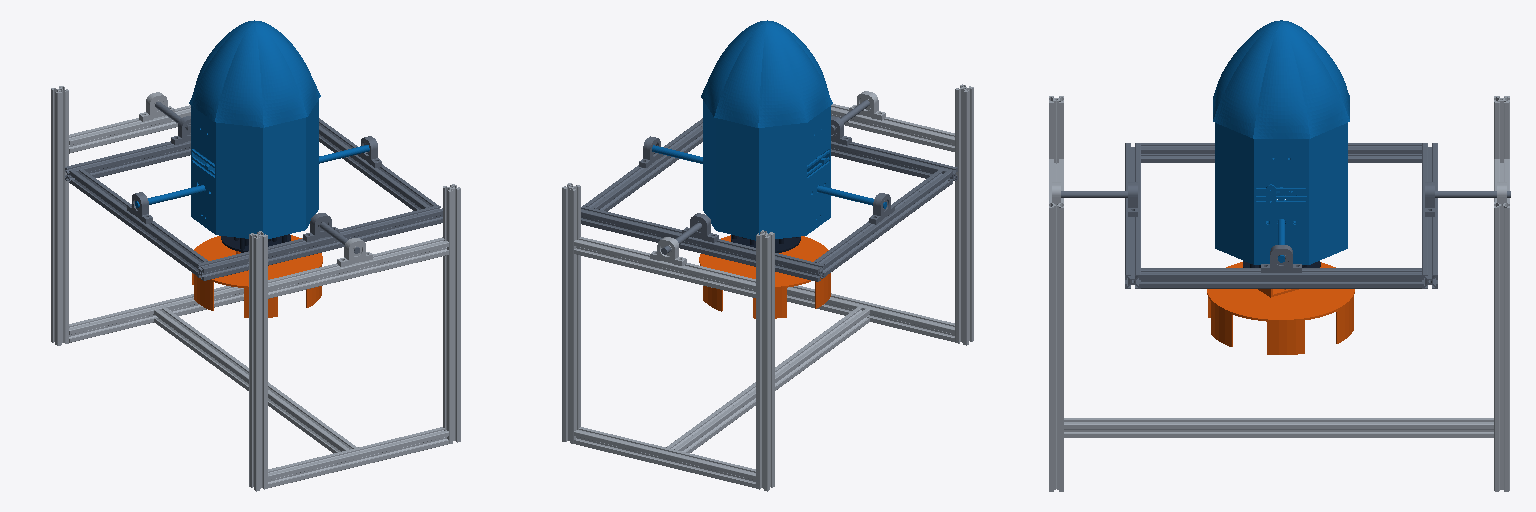
robot.urdf — tvc_bearing_bench:
<?xml version='1.0' encoding='utf-8'?>
<robot name="tvc_bearing_bench">
  <!--SI units. Two passive bearing axes, two finite-range TVC axes. Hardware masses and servo torque not calibrated.-->
  <mujoco>
    <compiler discardvisual="false" fusestatic="false" balanceinertia="false" />
  </mujoco>
  <link name="base">
    <inertial>
      <origin xyz="-1.41659713998e-10 -0.00300287933285 0.156765780651" rpy="0 0 0" />
      <mass value="1.6696801447" />
      <inertia ixx="0.152311867701" ixy="-8.02842029896e-13" ixz="4.22620004089e-11" iyy="0.0564248977728" iyz="8.48817070433e-07" izz="0.145145543224" />
    </inertial>
    <visual>
      <origin xyz="0 0 0" rpy="0 0 0" />
      <geometry>
        <mesh filename="../meshes/base.stl" scale="1 1 1" />
      </geometry>
      <material name="base_material">
        <color rgba="0.65 0.68 0.72 1" />
      </material>
    </visual>
  </link>
  <link name="outer_frame">
    <inertial>
      <origin xyz="0.00386403091391 -7.8383946077e-17 -0.0278301055879" rpy="0 0 0" />
      <mass value="0.807785395378" />
      <inertia ixx="0.020257956207" ixy="7.67411850212e-19" ixz="-0.00255463536002" iyy="0.018898675936" iyz="-8.2670415652e-18" izz="0.0383026412023" />
    </inertial>
    <visual>
      <origin xyz="0 0 0" rpy="0 0 0" />
      <geometry>
        <mesh filename="../meshes/outer_frame.stl" scale="1 1 1" />
      </geometry>
      <material name="outer_frame_material">
        <color rgba="0.42 0.46 0.52 1" />
      </material>
    </visual>
  </link>
  <link name="rocket_body">
    <inertial>
      <origin xyz="-0.0104871401813 -0.00638919275608 0.0585188775443" rpy="0 0 0" />
      <mass value="0.874809848988" />
      <inertia ixx="0.00759079266883" ixy="-7.84079442227e-05" ixz="0.000310782309314" iyy="0.00826048937692" iyz="0.000412357656431" izz="0.0049008019324" />
    </inertial>
    <visual>
      <origin xyz="0 0 0" rpy="0 0 0" />
      <geometry>
        <mesh filename="../meshes/rocket_body.stl" scale="1 1 1" />
      </geometry>
      <material name="rocket_body_material">
        <color rgba="0.08 0.43 0.68 1" />
      </material>
    </visual>
  </link>
  <link name="azimuth_stage">
    <inertial>
      <origin xyz="0.0021103656296 0.00178911567246 -0.0154319959363" rpy="0 0 0" />
      <mass value="0.0743663385504" />
      <inertia ixx="5.49237290143e-05" ixy="1.22086549064e-06" ixz="-4.23202359638e-06" iyy="5.40950435089e-05" iyz="-3.29406838973e-06" izz="8.47913835046e-05" />
    </inertial>
    <visual>
      <origin xyz="0 0 0" rpy="0 0 0" />
      <geometry>
        <mesh filename="../meshes/azimuth_stage.stl" scale="1 1 1" />
      </geometry>
      <material name="azimuth_stage_material">
        <color rgba="0.12 0.16 0.22 1" />
      </material>
    </visual>
  </link>
  <link name="thrust_unit">
    <inertial>
      <origin xyz="0.00607160176914 0.003156269223 -0.0284410883129" rpy="0 0 0" />
      <mass value="0.180541567962" />
      <inertia ixx="0.00052592319163" ixy="1.3064121963e-05" ixz="-7.67752805216e-05" iyy="0.000518491936748" iyz="-5.90226249527e-05" izz="0.000917248096124" />
    </inertial>
    <visual>
      <origin xyz="0 0 0" rpy="0 0 0" />
      <geometry>
        <mesh filename="../meshes/thrust_unit.stl" scale="1 1 1" />
      </geometry>
      <material name="thrust_unit_material">
        <color rgba="0.9 0.4 0.09 1" />
      </material>
    </visual>
  </link>
  <joint name="stand_outer" type="continuous">
    <parent link="base" />
    <child link="outer_frame" />
    <origin xyz="0 0 0.34000000298" rpy="-2.30738089305e-17 0.137961551603 -8.98596984675e-19" />
    <axis xyz="1.66533453694e-16 -1 -5.03385167242e-18" />
    <dynamics damping="0" friction="0" />
  </joint>
  <joint name="stand_inner" type="continuous">
    <parent link="outer_frame" />
    <child link="rocket_body" />
    <origin xyz="0 0 0" rpy="-0.110302856455 -0.000843828572764 -0.0152843999388" />
    <axis xyz="0.990498390146 1.04230440416e-15 0.137524321912" />
    <dynamics damping="0" friction="0" />
  </joint>
  <joint name="tvc_azimuth" type="revolute">
    <parent link="rocket_body" />
    <child link="azimuth_stage" />
    <origin xyz="0.0117341491358 0.00815553455445 -0.0711017490222" rpy="0 0 0" />
    <axis xyz="-0.136672398798 -0.11113524638 0.98436254115" />
    <dynamics damping="0" friction="0" />
    <limit lower="-3.14159265359" upper="3.14159265359" effort="0" velocity="0.942477796077" />
  </joint>
  <joint name="tvc_elevation" type="revolute">
    <parent link="azimuth_stage" />
    <child link="thrust_unit" />
    <origin xyz="0.00535414122292 0.00435372327694 -0.0385624025495" rpy="-0.032835065087 0.0479099783892 6.36448131814e-05" />
    <axis xyz="0.565250157614 -0.824789662895 -0.014638008694" />
    <dynamics damping="0" friction="0" />
    <limit lower="-0.872664625997" upper="0.872664625997" effort="0" velocity="0.706858347058" />
  </joint>
</robot>

--- What the picture shows (computed from the rendered views, not written in the file) ---
Views: 3 orthographic renders of the robot side by side, from view 1: azimuth 30°, elevation 25°; view 2: azimuth 150°, elevation 25°; view 3: azimuth 270°, elevation 25°.
Model tvc_bearing_bench with 5 links and 4 joints (2 revolute, 2 continuous), rooted at base, posed every joint at zero.
Links seen in each view (by area): view 1: base, rocket_body, outer_frame, thrust_unit; view 2: base, rocket_body, outer_frame, thrust_unit; view 3: rocket_body, base, outer_frame, thrust_unit.
Boxes of the visible links, <box> form: base: <box>51,86,460,491</box>; rocket_body: <box>135,20,369,238</box>; outer_frame: <box>65,102,442,280</box>; thrust_unit: <box>192,235,322,317</box>; base: <box>562,84,973,491</box>; rocket_body: <box>652,20,886,240</box>; outer_frame: <box>581,100,957,281</box>; thrust_unit: <box>699,235,830,318</box>; rocket_body: <box>1213,20,1349,264</box>; base: <box>1049,96,1509,491</box>; outer_frame: <box>1061,143,1510,288</box>; thrust_unit: <box>1207,262,1354,354</box>.
Bounding box of the posed robot: 0.4 × 0.592 × 0.583 m (x, y, z).
5 mesh visuals loaded from 5 distinct referenced files (5 binary STL).
